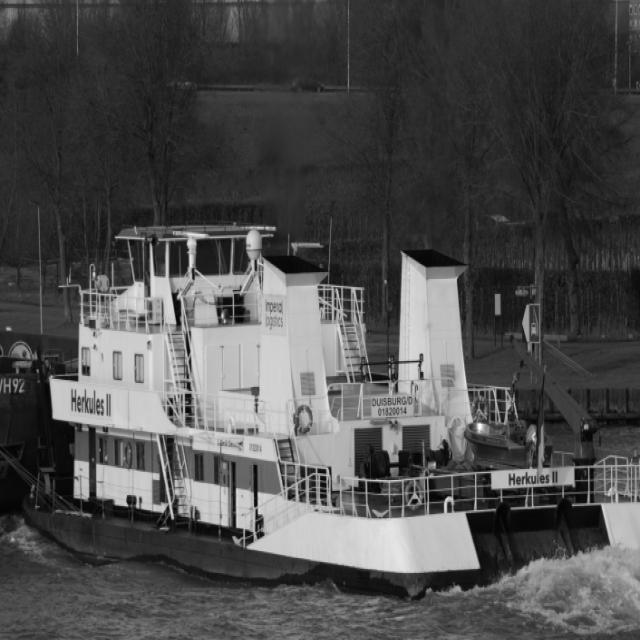tugboat: (22, 217, 640, 618)
